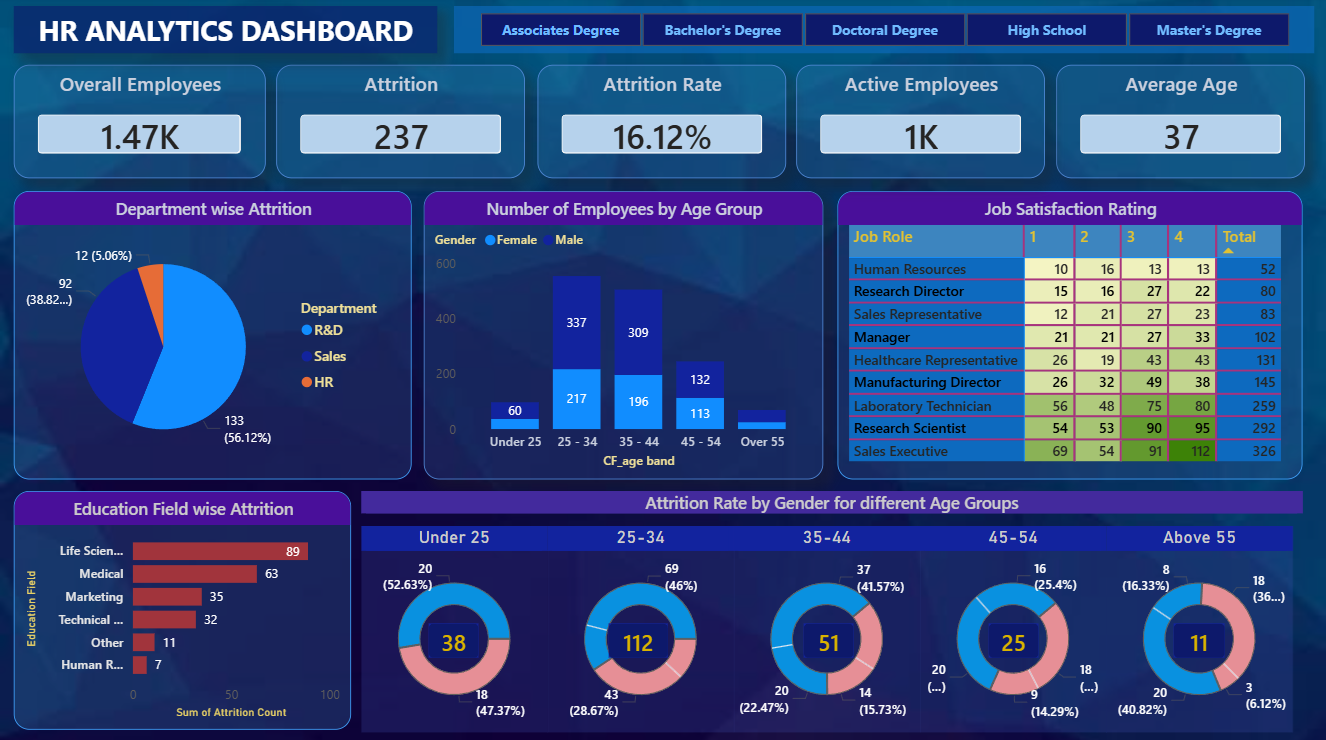

The page's visual inventory and layout, read from the dashboard file:
{"tool":"powerbi","page":{"name":"Page 1","canvas":[1280,720],"ordinal":0},"visuals":[{"type":"cardVisual","title":"Overall Employees","fields":{"Data":["CountNonNull(HR data.Employee Count)"]},"box":[13.7,65.9,242.9,109.8],"z":0},{"type":"cardVisual","title":"Attrition","fields":{"Data":["Sum(HR data.Attrition Count)"]},"box":[266.6,66.4,240.1,109.8],"z":1000},{"type":"cardVisual","title":"Attrition Rate","fields":{"Data":["HR data.Attrition Rate"]},"box":[518.8,66.4,240.1,109.8],"z":2000},{"type":"cardVisual","title":"Average Age","fields":{"Data":["Avg(HR data.Age)"]},"box":[1019.6,65.9,240.1,109.8],"z":4000},{"type":"pieChart","title":"Department wise Attrition","fields":{"Category":["HR data.Department"],"Y":["Sum(HR data.Attrition Count)"]},"box":[13.7,188,384.2,278.6],"z":5000},{"type":"columnChart","title":"Number of Employees by Age Group","fields":{"Category":["HR data.CF_age band"],"Y":["Sum(HR data.Employee Count)"],"Series":["HR data.Gender"]},"box":[408.9,188,385.6,278.6],"z":6000},{"type":"pivotTable","title":"Job Satisfaction Rating","fields":{"Rows":["HR data.Job Role"],"Columns":["HR data.Job Satisfaction"],"Values":["Sum(HR data.Employee Count)"]},"box":[808.2,188,448.7,278.6],"z":7000},{"type":"barChart","title":"Education Field wise Attrition","fields":{"Category":["HR data.Education Field"],"Y":["Sum(HR data.Attrition Count)"]},"box":[13.3,477.8,325.7,230.4],"z":8000},{"type":"donutChart","title":"Under 25","fields":{"Category":["HR data.Gender"],"Y":["Sum(HR data.Attrition Count)"],"Series":["HR data.CF_age band"]},"box":[348.5,511.8,179.8,199],"z":9000},{"type":"textbox","title":"Arrition Rate by Gender for different Age Groups","box":[348.7,477.8,908.4,21.7],"z":10000},{"type":"donutChart","title":"25-34","fields":{"Category":["HR data.Gender"],"Y":["Sum(HR data.Attrition Count)"],"Series":["HR data.CF_age band"]},"box":[528.4,511.5,179.8,199.1],"z":11000},{"type":"donutChart","title":"35-44","fields":{"Category":["HR data.Gender"],"Y":["Sum(HR data.Attrition Count)"],"Series":["HR data.CF_age band"]},"box":[708.1,511.8,179.8,199],"z":12000},{"type":"donutChart","title":"45-54","fields":{"Category":["HR data.Gender"],"Y":["Sum(HR data.Attrition Count)"],"Series":["HR data.CF_age band"]},"box":[887.8,511.8,179.8,199],"z":13000},{"type":"donutChart","title":"Above 55","fields":{"Category":["HR data.Gender"],"Y":["Sum(HR data.Attrition Count)"],"Series":["HR data.CF_age band"]},"box":[1067.6,511.8,179.8,199],"z":14000},{"type":"cardVisual","fields":{"Data":["Sum(HR data.Attrition Count)"]},"box":[397,589,82.3,67.2],"z":15000},{"type":"cardVisual","fields":{"Data":["Sum(HR data.Attrition Count)"]},"box":[570.8,588.7,91.9,67.2],"z":16000},{"type":"cardVisual","fields":{"Data":["Sum(HR data.Attrition Count)"]},"box":[758.8,588.7,82.3,67.2],"z":17000},{"type":"cardVisual","fields":{"Data":["Sum(HR data.Attrition Count)"]},"box":[937.2,588.7,82.3,67.2],"z":18000},{"type":"cardVisual","fields":{"Data":["Sum(HR data.Attrition Count)"]},"box":[1115.6,588.7,83.7,67.2],"z":19000},{"type":"textbox","box":[13.7,9.6,408.9,45.3],"z":20000},{"type":"slicer","fields":{"Values":["HR data.Education"]},"box":[437.7,9.6,830.2,45.3],"z":21000},{"type":"cardVisual","title":"Active Employees","fields":{"Data":["HR data.Active Employees"]},"box":[768.4,65.9,240.1,109.8],"z":21001}]}

Visuals, with their boxes in screenshot pixels (x1, y1, x2, y2), scaled from the page's 1280x720 canvas onto the 1326x740 screenshot:
"Overall Employees" cardVisual: (14,68,266,181)
"Attrition" cardVisual: (276,68,525,181)
"Attrition Rate" cardVisual: (537,68,786,181)
"Average Age" cardVisual: (1056,68,1305,181)
"Department wise Attrition" pieChart: (14,193,412,480)
"Number of Employees by Age Group" columnChart: (424,193,823,480)
"Job Satisfaction Rating" pivotTable: (837,193,1302,480)
"Education Field wise Attrition" barChart: (14,491,351,728)
"Under 25" donutChart: (361,526,547,731)
"Arrition Rate by Gender for different Age Groups" textbox: (361,491,1302,513)
"25-34" donutChart: (547,526,734,730)
"35-44" donutChart: (734,526,920,731)
"45-54" donutChart: (920,526,1106,731)
"Above 55" donutChart: (1106,526,1292,731)
cardVisual - Sum(HR data.Attrition Count): (411,605,497,674)
cardVisual - Sum(HR data.Attrition Count): (591,605,687,674)
cardVisual - Sum(HR data.Attrition Count): (786,605,871,674)
cardVisual - Sum(HR data.Attrition Count): (971,605,1056,674)
cardVisual - Sum(HR data.Attrition Count): (1156,605,1242,674)
textbox: (14,10,438,56)
slicer - HR data.Education: (453,10,1313,56)
"Active Employees" cardVisual: (796,68,1045,181)
